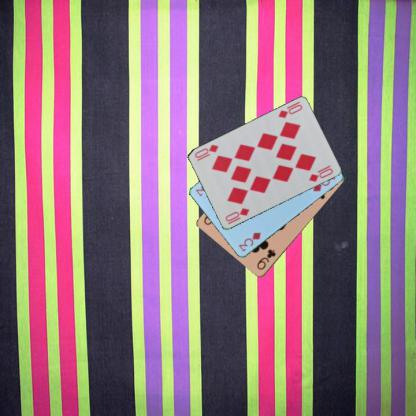10d: (276, 99, 303, 120), (223, 206, 250, 226)
3d: (236, 230, 262, 253)
9c: (254, 247, 277, 272)
